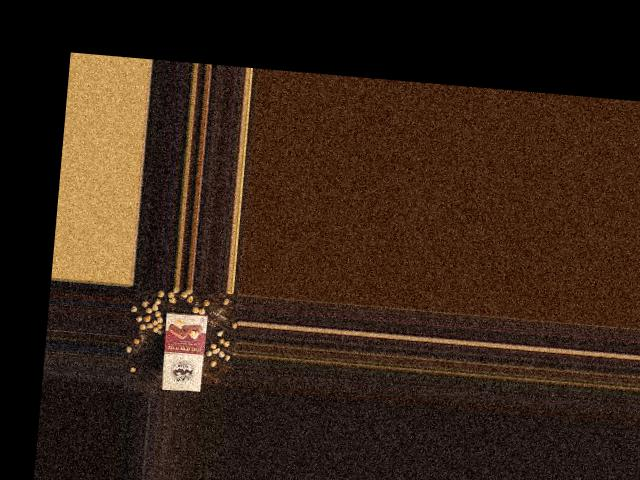chocolate: (156, 309, 210, 394)
